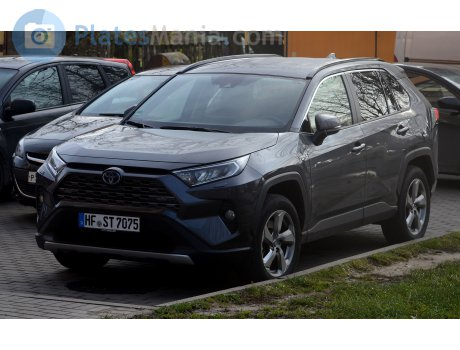License Plates: (90, 211, 140, 228)
